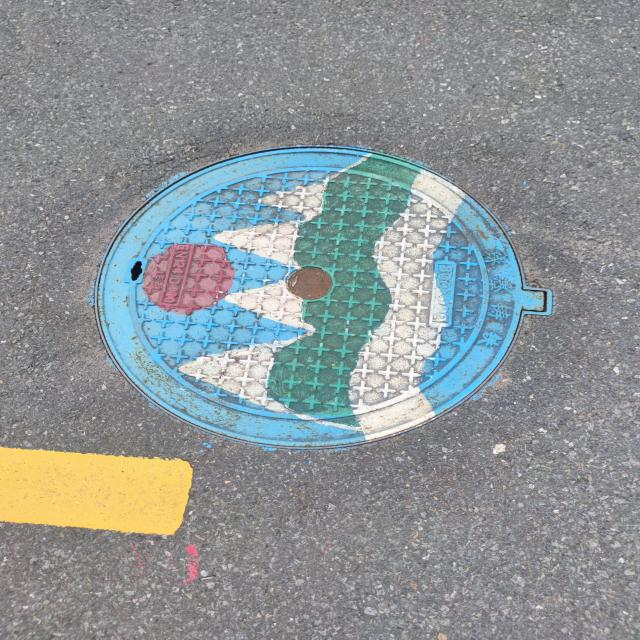Good: (89, 143, 558, 453)
